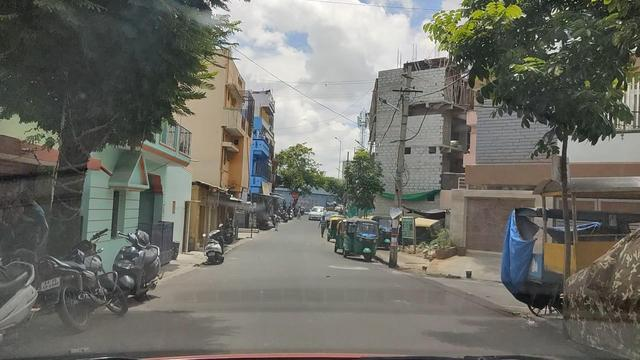LMV: (336, 219, 376, 258)
RoadDamages: (328, 262, 369, 274)
